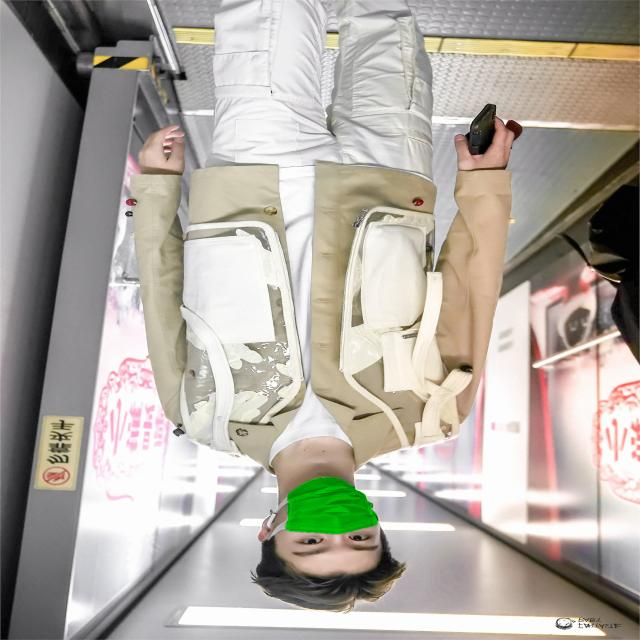mask: (258, 471, 398, 545)
